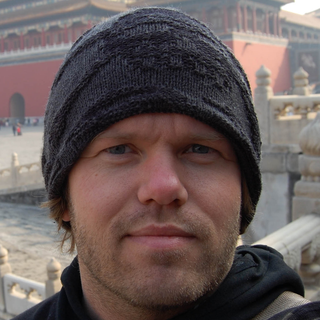eye: (176, 139, 222, 163), (96, 140, 143, 163)
